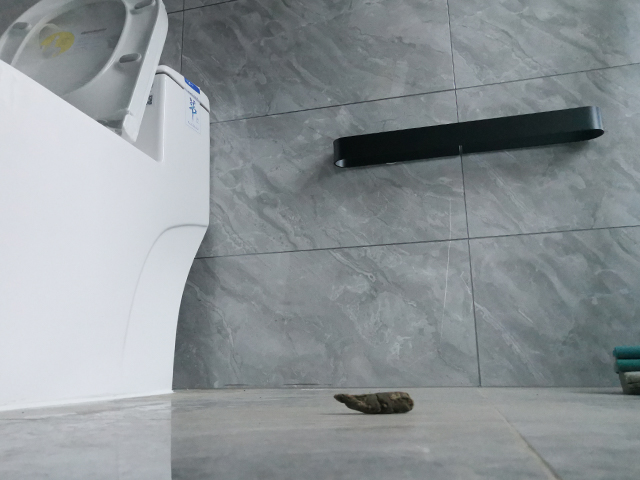closestool: (1, 1, 214, 415)
feces: (330, 388, 415, 418)
